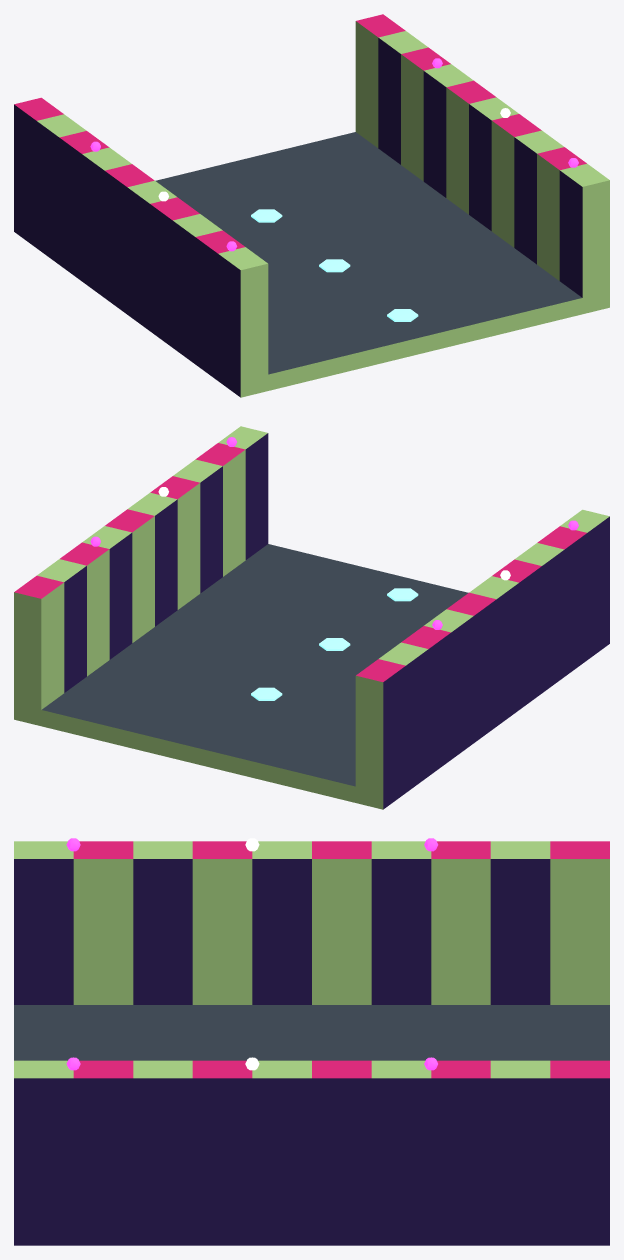
File: Track_Straight.fbx
3 views of the same model, one above another, from view 1: azimuth 30°, elevation 25°; view 2: azimuth 150°, elevation 25°; view 3: azimuth 270°, elevation 25° (orthographic). The views are drawn at different scales.
Visible parts, largest first — view 1: Track_Straight; view 2: Track_Straight; view 3: Track_Straight.
Boxes of the visible parts, x1,y1,x2,y2 form: Track_Straight: (14, 14, 609, 397); Track_Straight: (14, 426, 609, 809); Track_Straight: (14, 838, 609, 1245).
Bounding box in the file's own units: 9.4 × 3.32 × 10.
